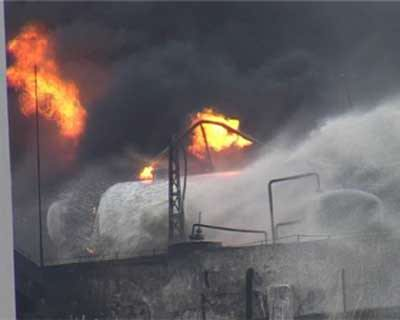fire: (6, 17, 94, 152), (184, 104, 261, 153), (138, 155, 162, 184)
